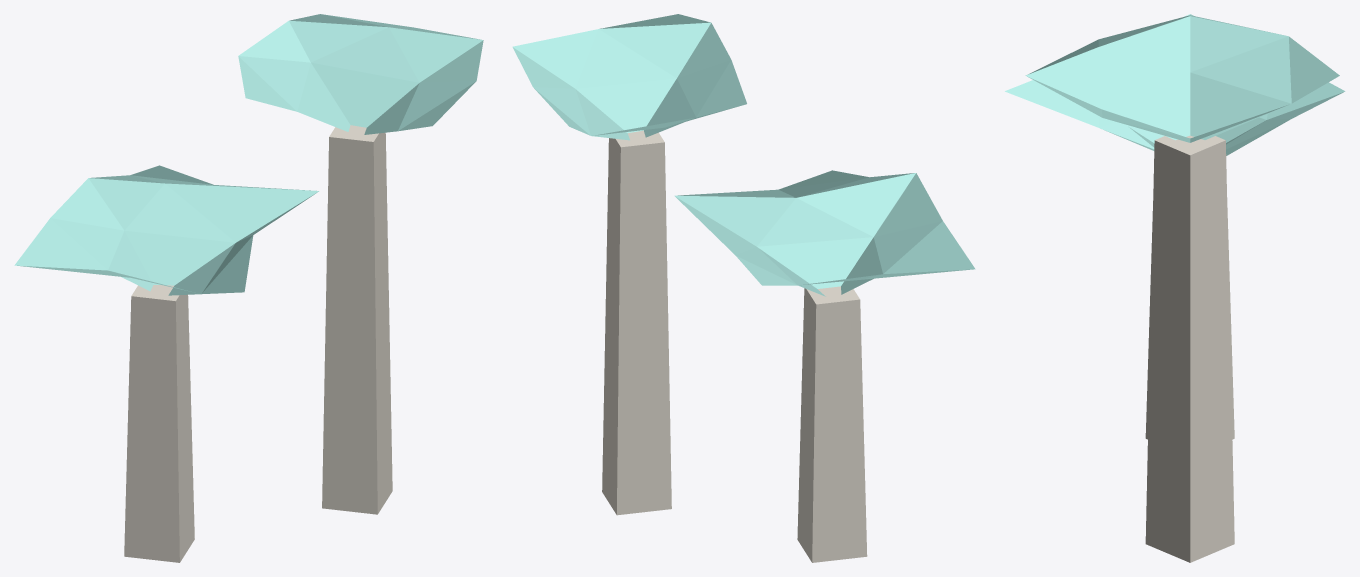
File: glowcap_v18.glb
3 renders of one model, left to right at view 1: azimuth 30°, elevation 25°; view 2: azimuth 150°, elevation 25°; view 3: azimuth 270°, elevation 25°, orthographic. The views are drawn at different scales.
Visible parts, largest first — view 1: lod0; view 2: lod0; view 3: lod0.
Part boxes in pixels (left/top/right/bottom): lod0: left=14, top=14, right=483, bottom=562; lod0: left=512, top=14, right=975, bottom=562; lod0: left=1005, top=14, right=1345, bottom=562.
Size of what is drawn, in the model's own units: 0.3321 by 0.3245 by 0.1915.
